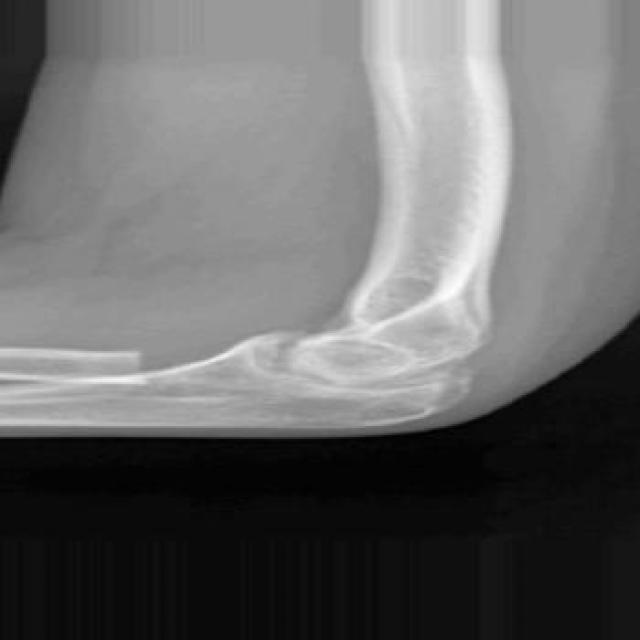Fracture: (124, 340, 225, 386)
